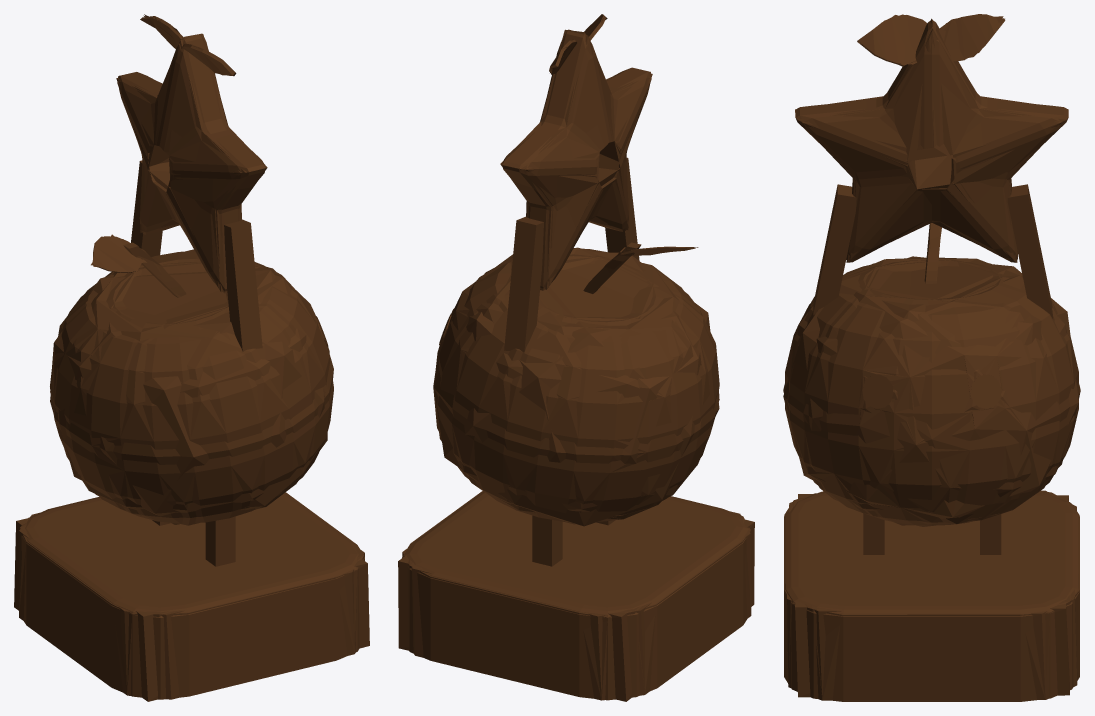
File: junimoLOD.fbx
3 views of the same model, side by side, from view 1: azimuth 30°, elevation 25°; view 2: azimuth 150°, elevation 25°; view 3: azimuth 270°, elevation 25° (orthographic). The views are drawn at different scales.
Parts seen in each view (by area): view 1: Cube.001, Cube.002, Cube.004, Cube.003; view 2: Cube.001, Cube.002, Cube.004, Cube.003; view 3: Cube.001, Cube.002, Cube.004, Cube.003.
Part boxes in pixels (x1=…): Cube.001: x1=21, y1=16, x2=364, y2=699; Cube.002: x1=19, y1=16, x2=363, y2=695; Cube.004: x1=14, y1=14, x2=369, y2=701; Cube.003: x1=19, y1=15, x2=364, y2=699; Cube.001: x1=402, y1=14, x2=750, y2=700; Cube.002: x1=402, y1=20, x2=751, y2=700; Cube.004: x1=398, y1=56, x2=754, y2=701; Cube.003: x1=402, y1=18, x2=751, y2=698; Cube.001: x1=784, y1=14, x2=1079, y2=701; Cube.002: x1=784, y1=14, x2=1079, y2=700; Cube.004: x1=783, y1=16, x2=1078, y2=697; Cube.003: x1=783, y1=15, x2=1080, y2=699.
Bounding box in the file's own units: 2.01 × 4.62 × 2.01.
